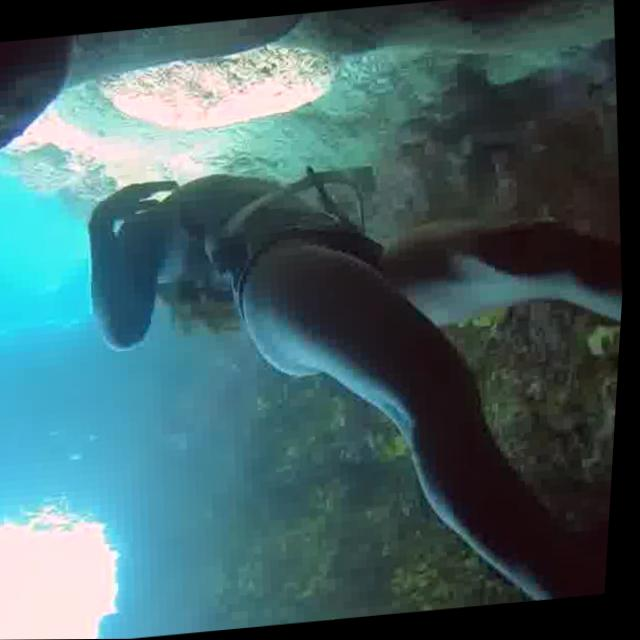human: (48, 122, 634, 640)
